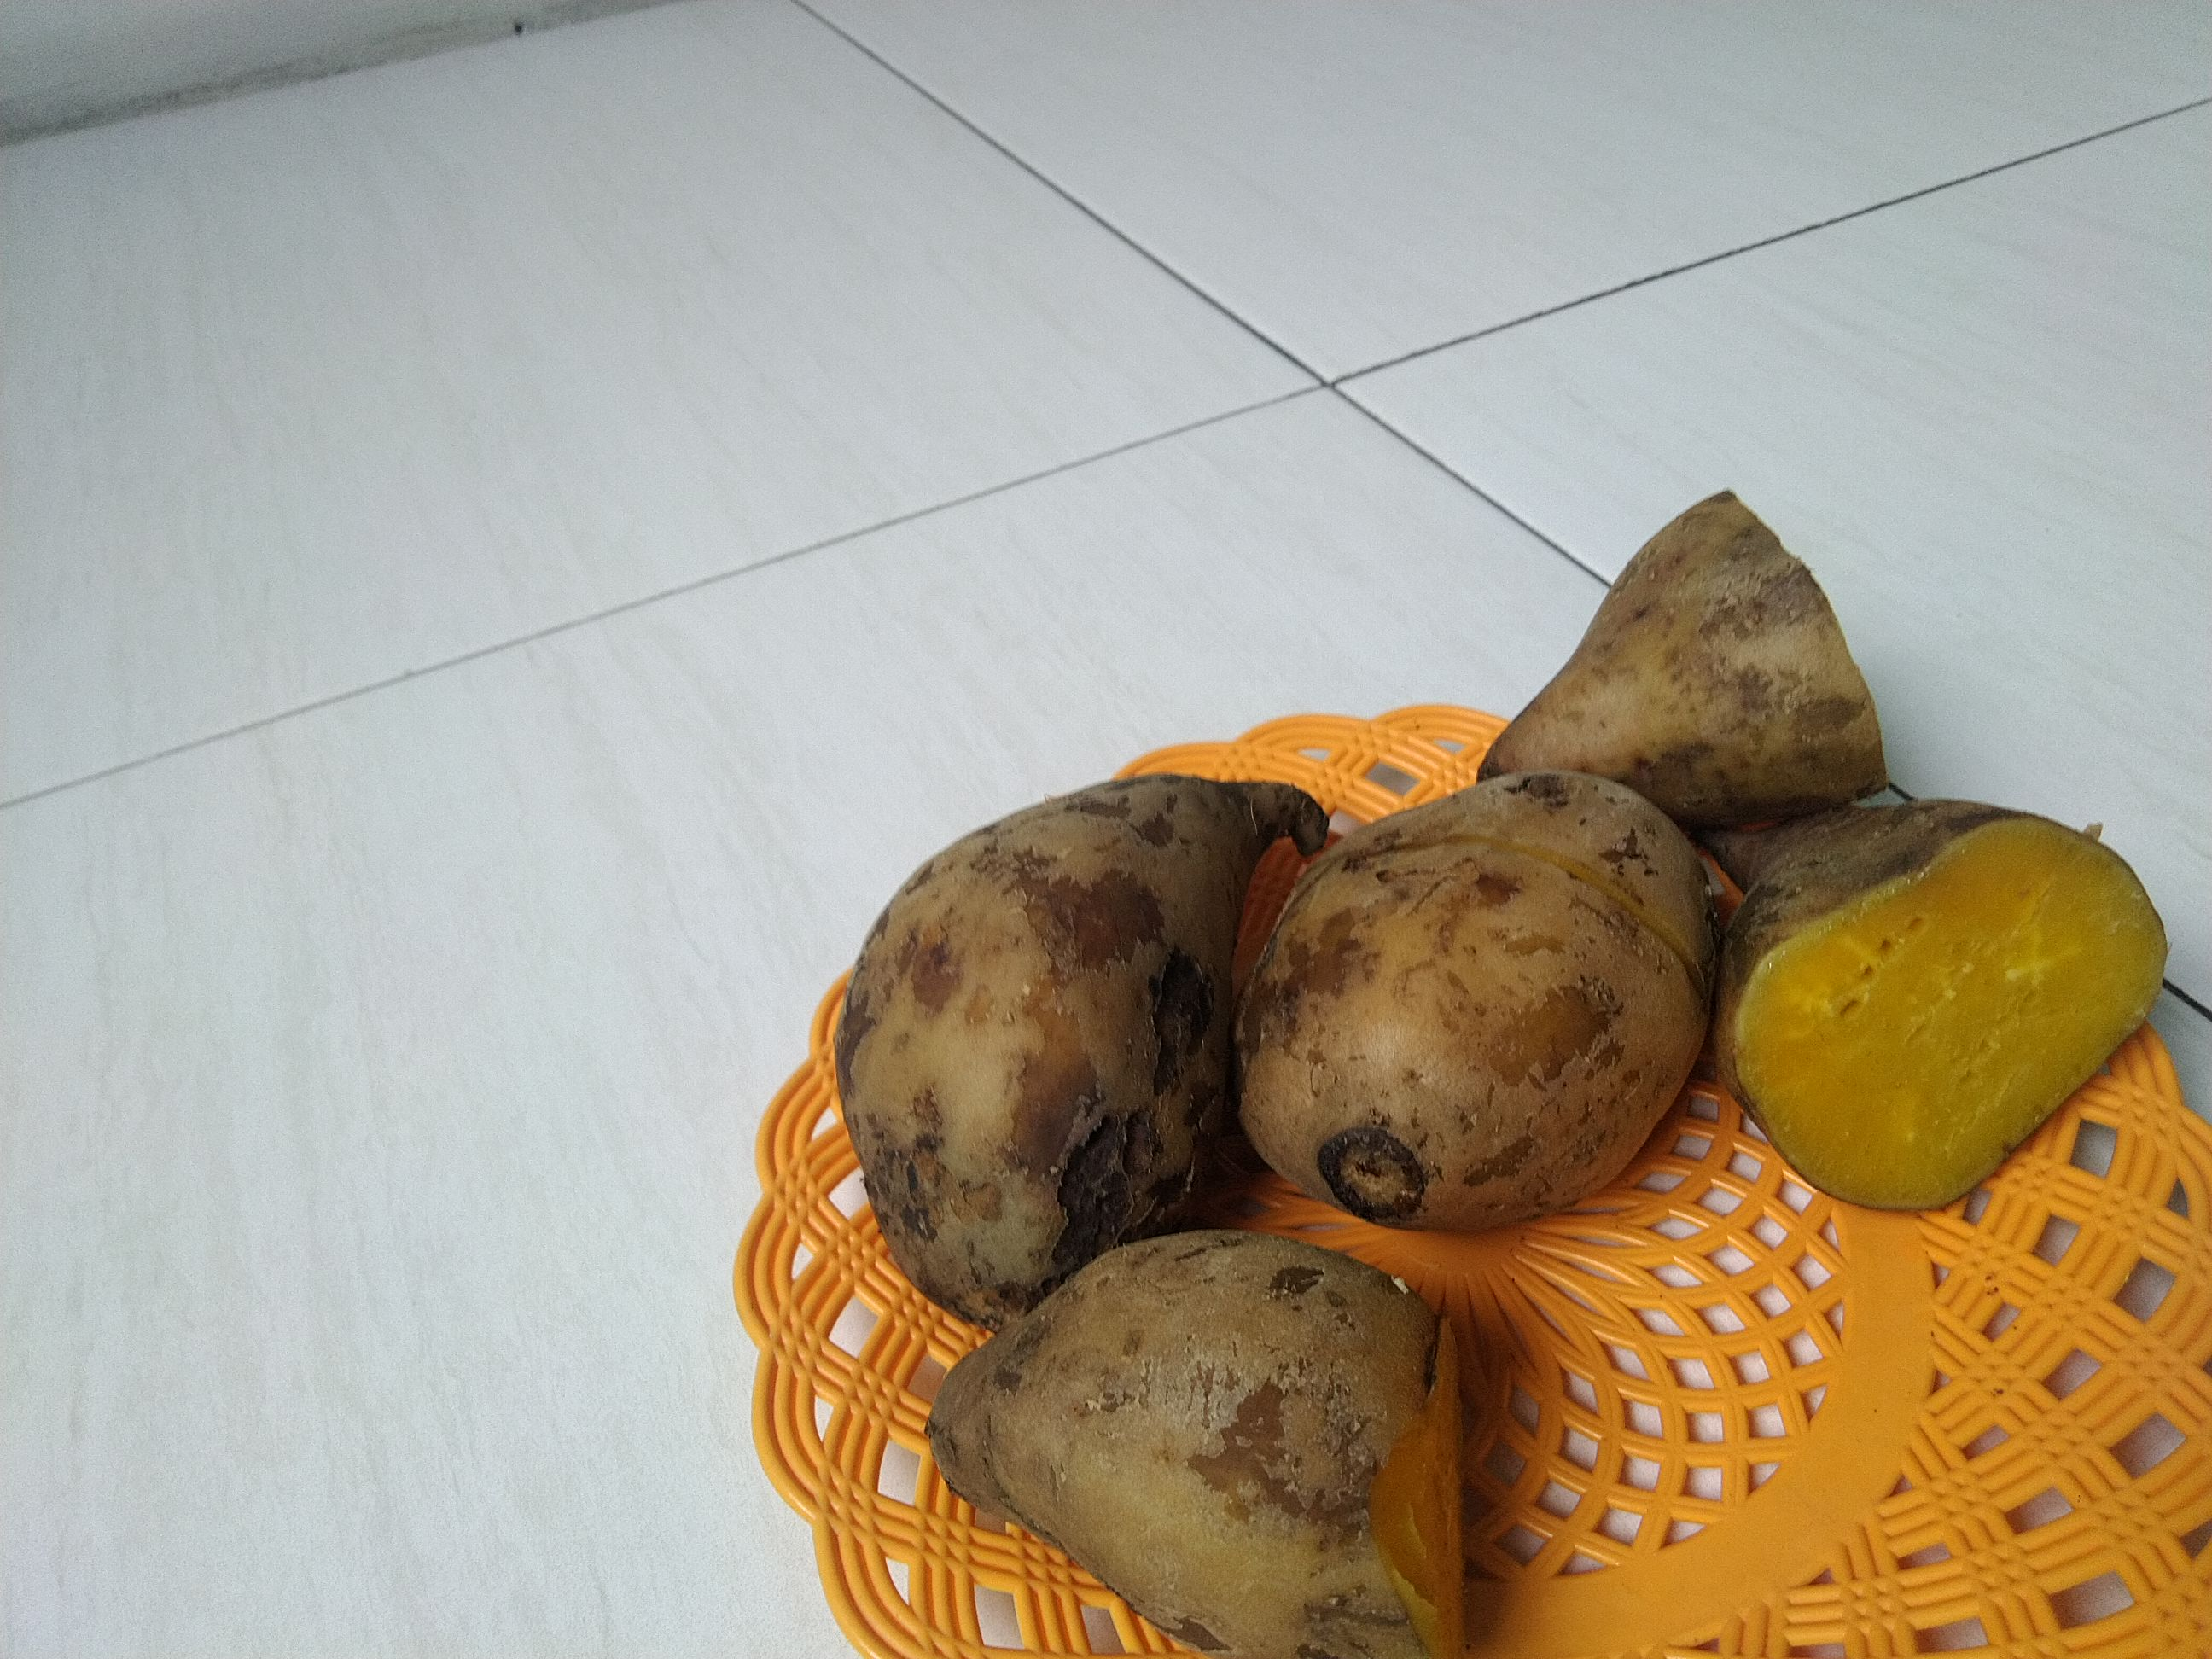ubi kuning: (836, 734, 1324, 1338), (883, 1227, 1527, 1659), (1237, 760, 1719, 1237), (1723, 791, 2163, 1216), (1480, 486, 1898, 814)
